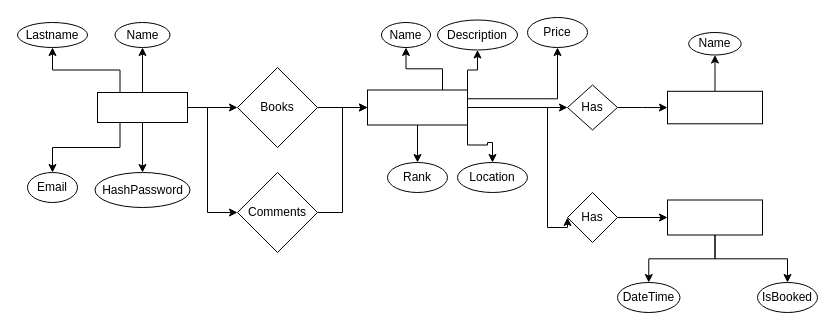
Image size: 835x330. Some labels were removed from this diagram. Each missing label, with the centre of its shape:
Activity: (x=417, y=107)
Availability: (x=714, y=217)
Category: (x=714, y=107)
Users: (x=142, y=107)
